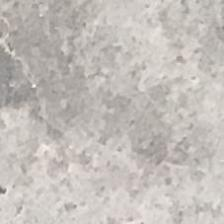Non_Crack: (14, 11, 224, 224)
